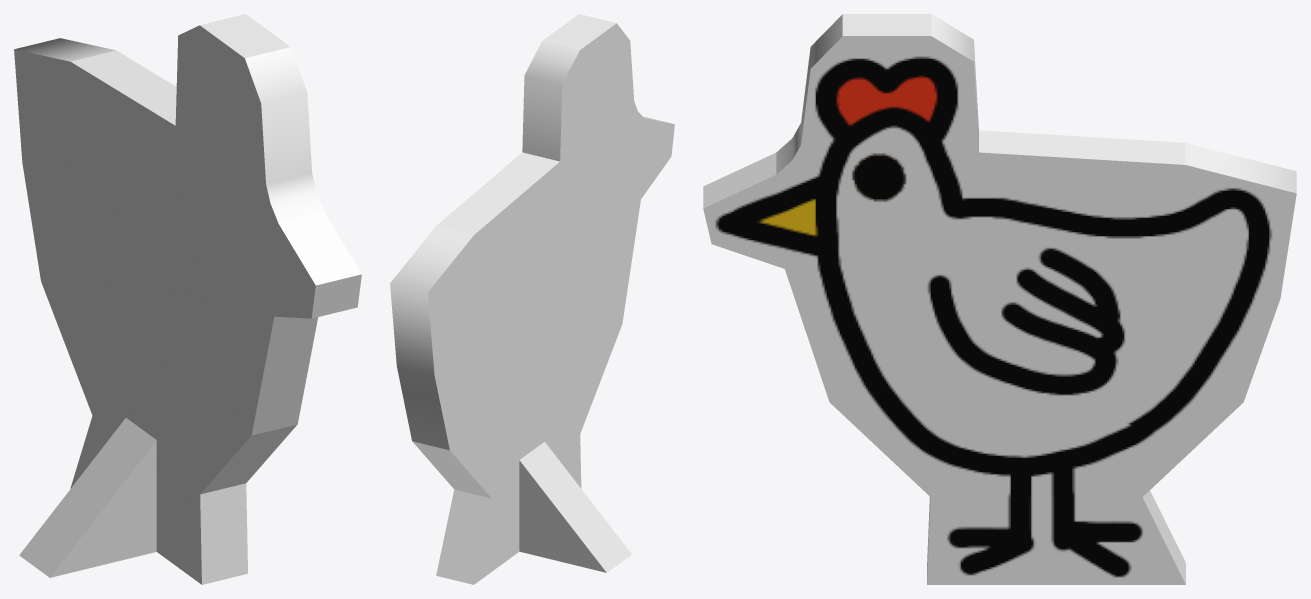
The model's file is chicken white.fbx.
3 renders of one model, left to right at view 1: azimuth 30°, elevation 25°; view 2: azimuth 150°, elevation 25°; view 3: azimuth 270°, elevation 25°, orthographic. The views are drawn at different scales.
Visible parts, largest first — view 1: pCube15, pCube37; view 2: pCube15, pCube37; view 3: pCube15.
Boxes of the visible parts, <box> form: pCube15: <box>14,14,361,584</box>; pCube37: <box>19,418,156,577</box>; pCube15: <box>390,14,674,584</box>; pCube37: <box>519,441,631,572</box>; pCube15: <box>703,14,1296,584</box>.
Bounding box in the file's own units: 1.43 × 4.99 × 4.89.
